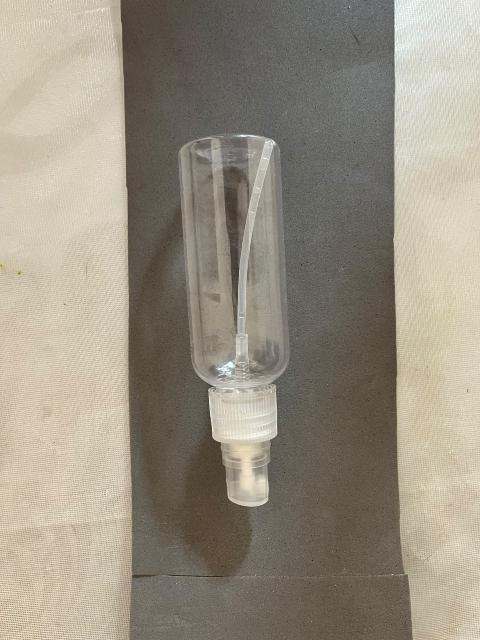PET: (147, 97, 332, 541)
